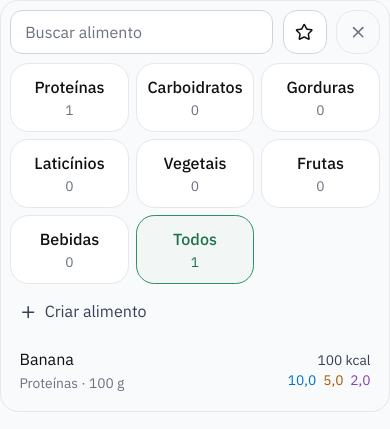
Test: FoodPicker › shows a not-found message rather than an empty silence
Type "zzzz" into the search field named "Buscar alimento para adicionar" at (142, 32), box [10, 10, 274, 54]
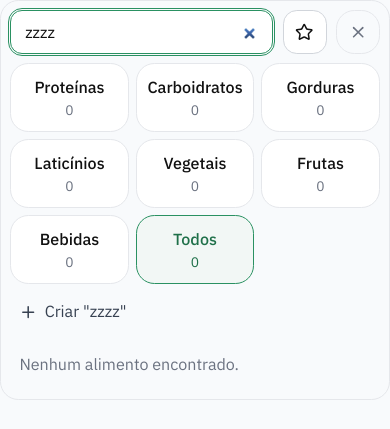
Check: the text "Nenhum alimento encontrado." is shown, box [19, 353, 239, 374]
